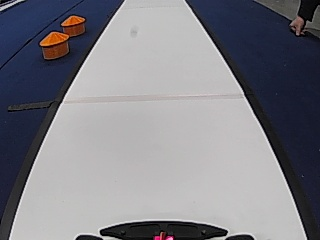granary: (37, 29, 69, 59), (59, 13, 86, 35)
